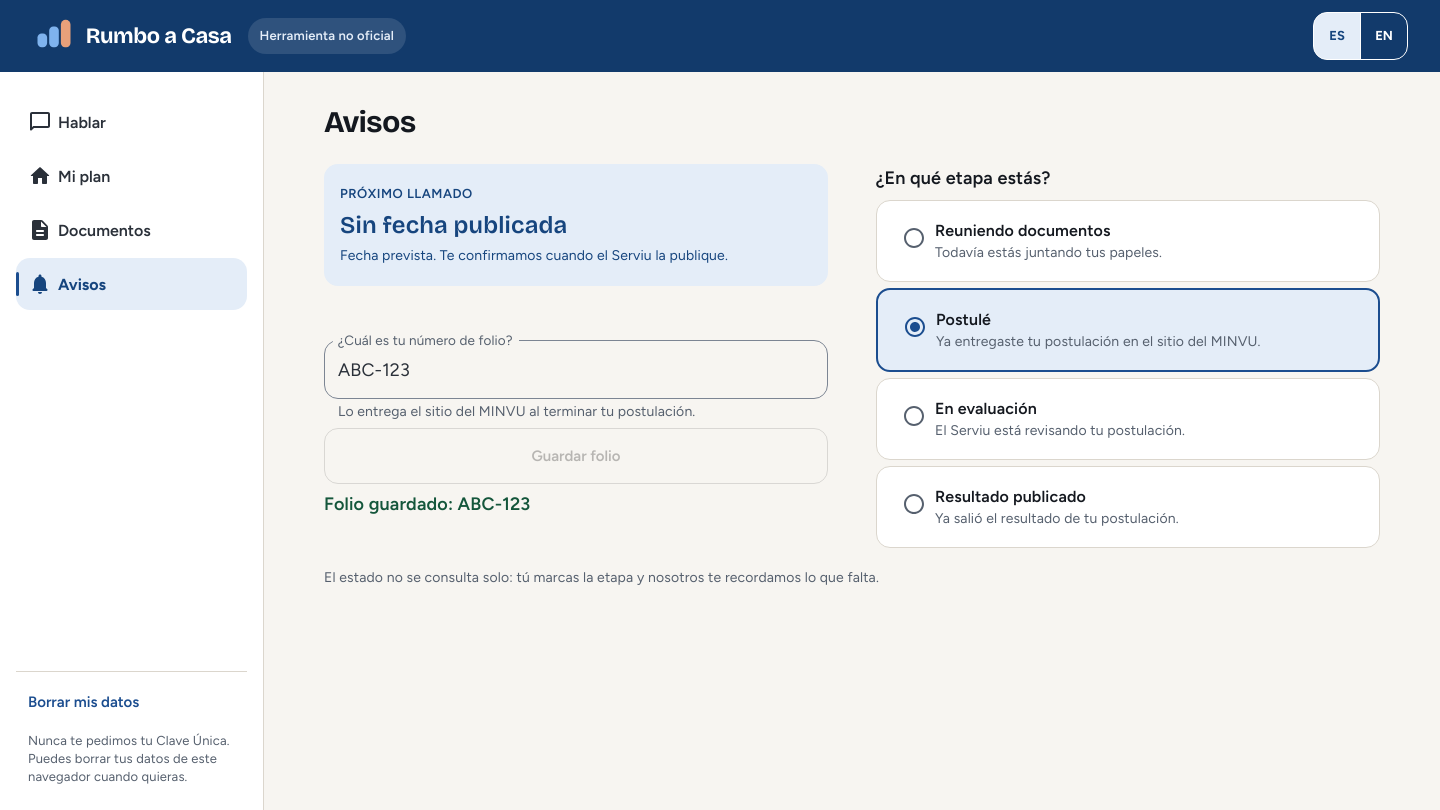
Test: PantallaSeguimiento en escritorio › con el folio ya guardado, lo confirma y deshabilita "Guardar folio" hasta que cambie
This screenshot has width=1440, height=810.
expect the message reads "Folio guardado: ABC-123": met, box [324,493,530,515]
expect the button "Guardar folio" is disabled: met, box [324,428,828,484]
In the field labelled "¿Cuál es tu número de folio?": (576, 370) [324,340,828,399], type "9"
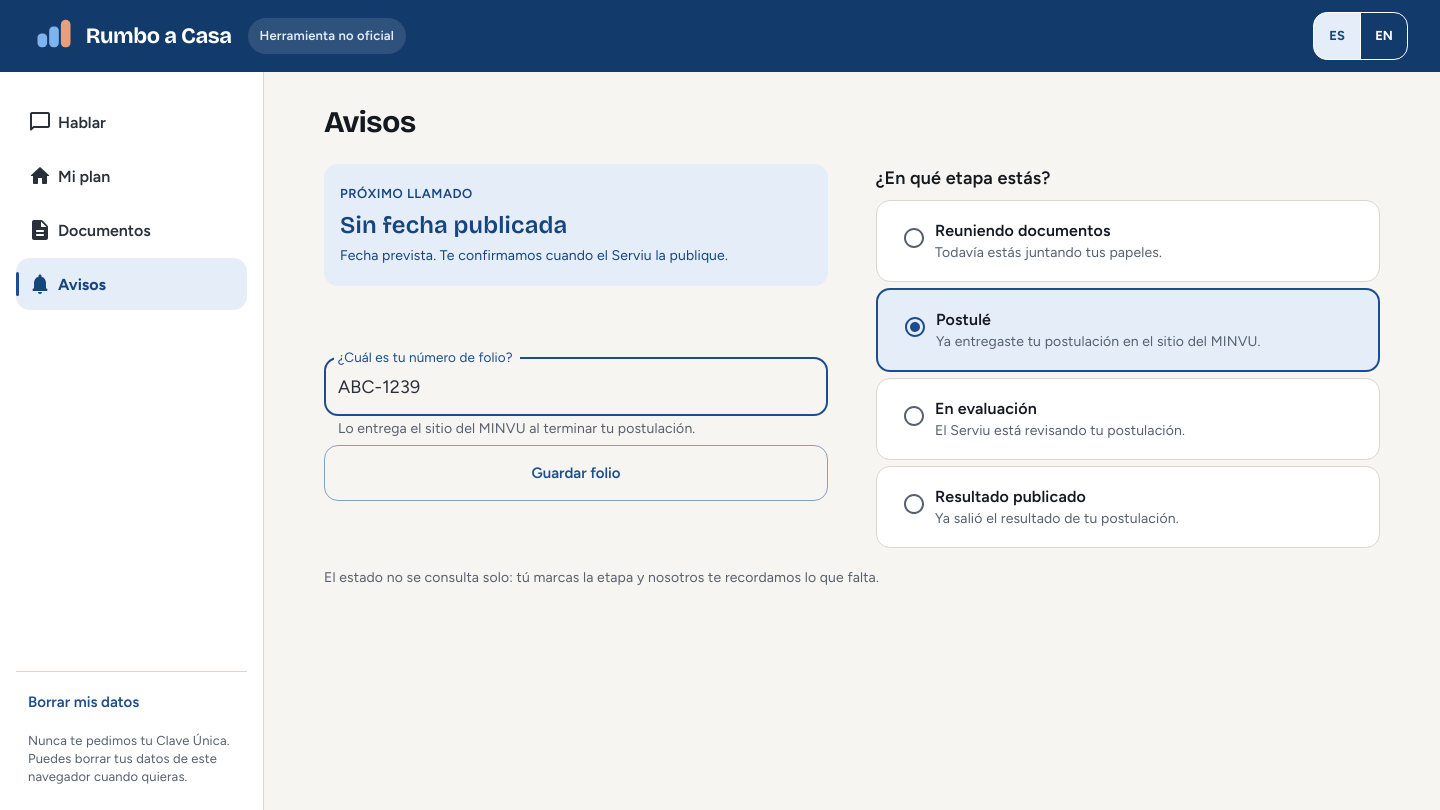
expect the button "Guardar folio" is enabled: met, box [324,445,828,501]
expect the message "Folio guardado: ABC-123" is gone: met
